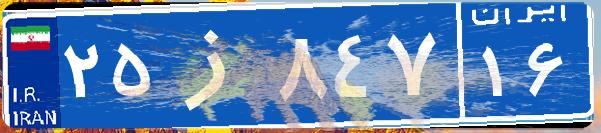1: (475, 38, 525, 113)
2: (57, 26, 110, 107)
4: (330, 28, 385, 110)
5: (110, 28, 158, 105)
6: (525, 38, 570, 115)
7: (385, 28, 445, 110)
8: (273, 28, 330, 110)
ز: (158, 15, 273, 115)
